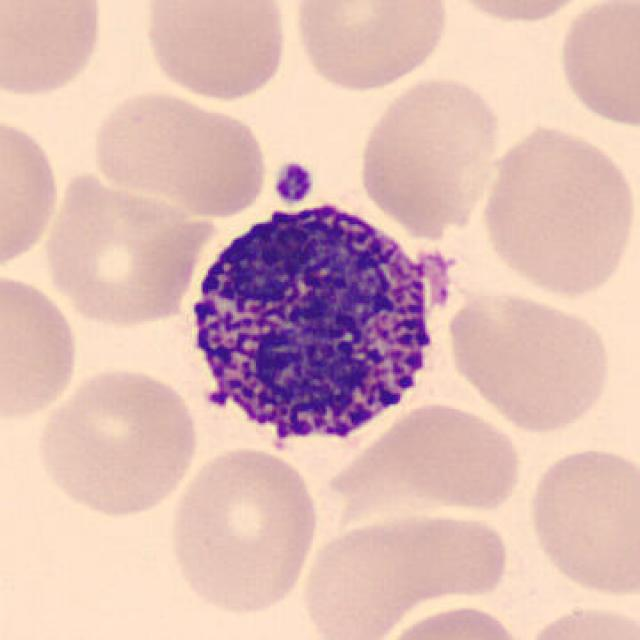Basophil: (174, 190, 457, 468)
Platelets: (270, 159, 318, 206)
RBC: (473, 118, 638, 302), (297, 504, 517, 640), (164, 442, 324, 620), (39, 166, 208, 331), (32, 361, 203, 522), (441, 286, 615, 436), (315, 397, 528, 518), (352, 71, 503, 238), (85, 84, 272, 218), (521, 441, 638, 601), (140, 0, 292, 104), (288, 0, 453, 95), (0, 268, 82, 425), (553, 0, 638, 132), (0, 109, 64, 277), (0, 0, 106, 100), (375, 601, 530, 640), (519, 599, 638, 640), (437, 0, 607, 26)
